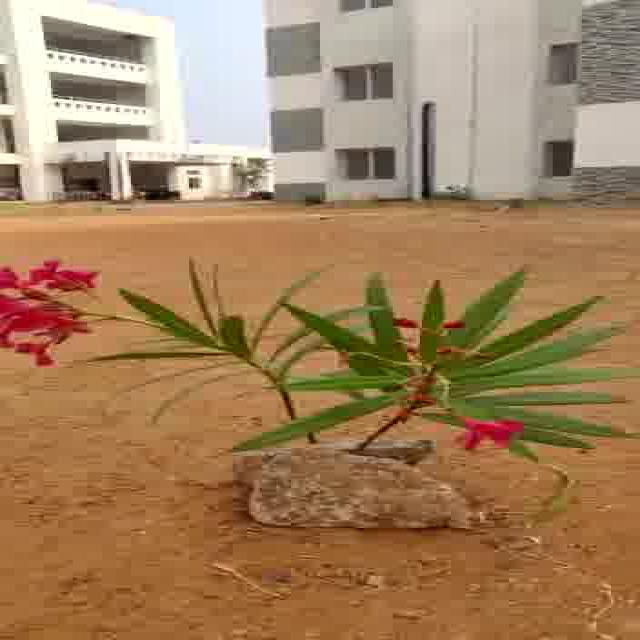Oleander: (0, 250, 640, 473)
